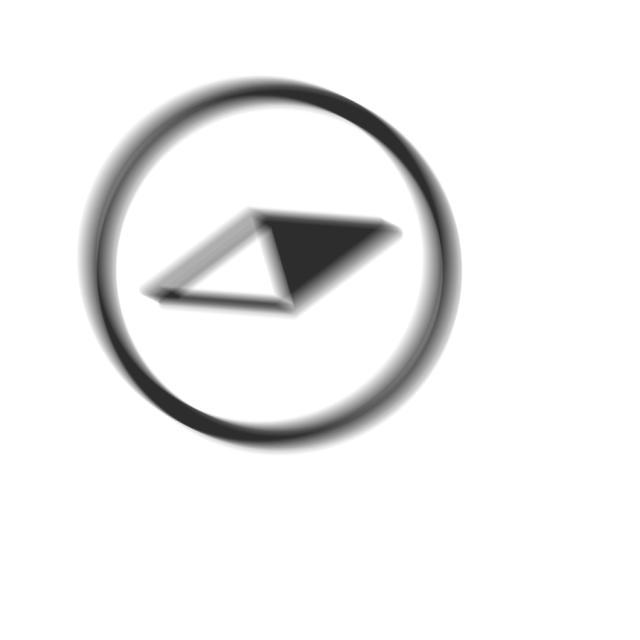compass: (74, 74, 468, 463)
